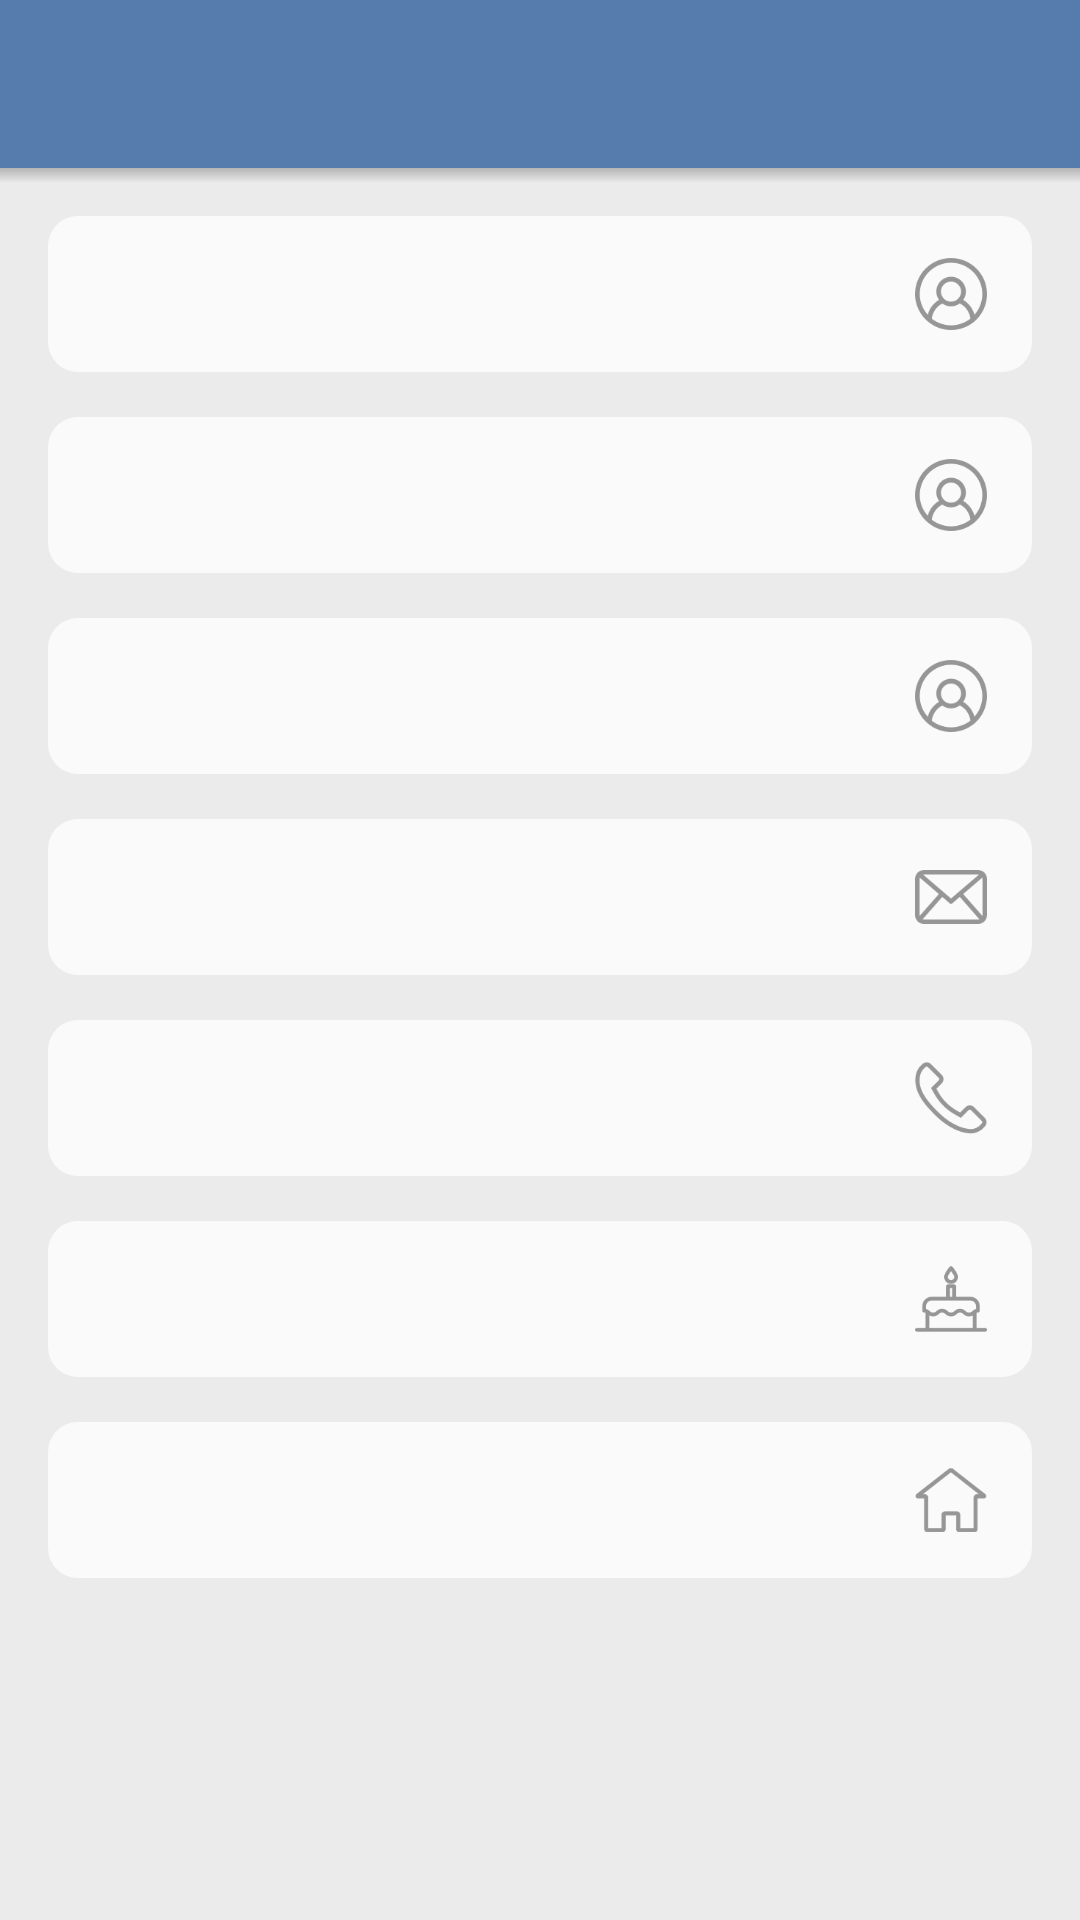

Icon bounding boxes for this 1080w x 1920h phone screenshot, format [x1,y1,x2,y2]:
address: [915,1468,986,1532]
birthdate: [915,1266,987,1332]
email: [915,870,987,924]
phone: [915,1062,987,1134]
